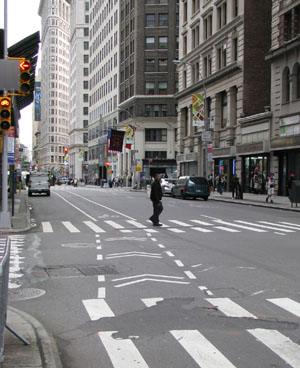pedestrian: (145, 173, 168, 226), (265, 173, 277, 205)
